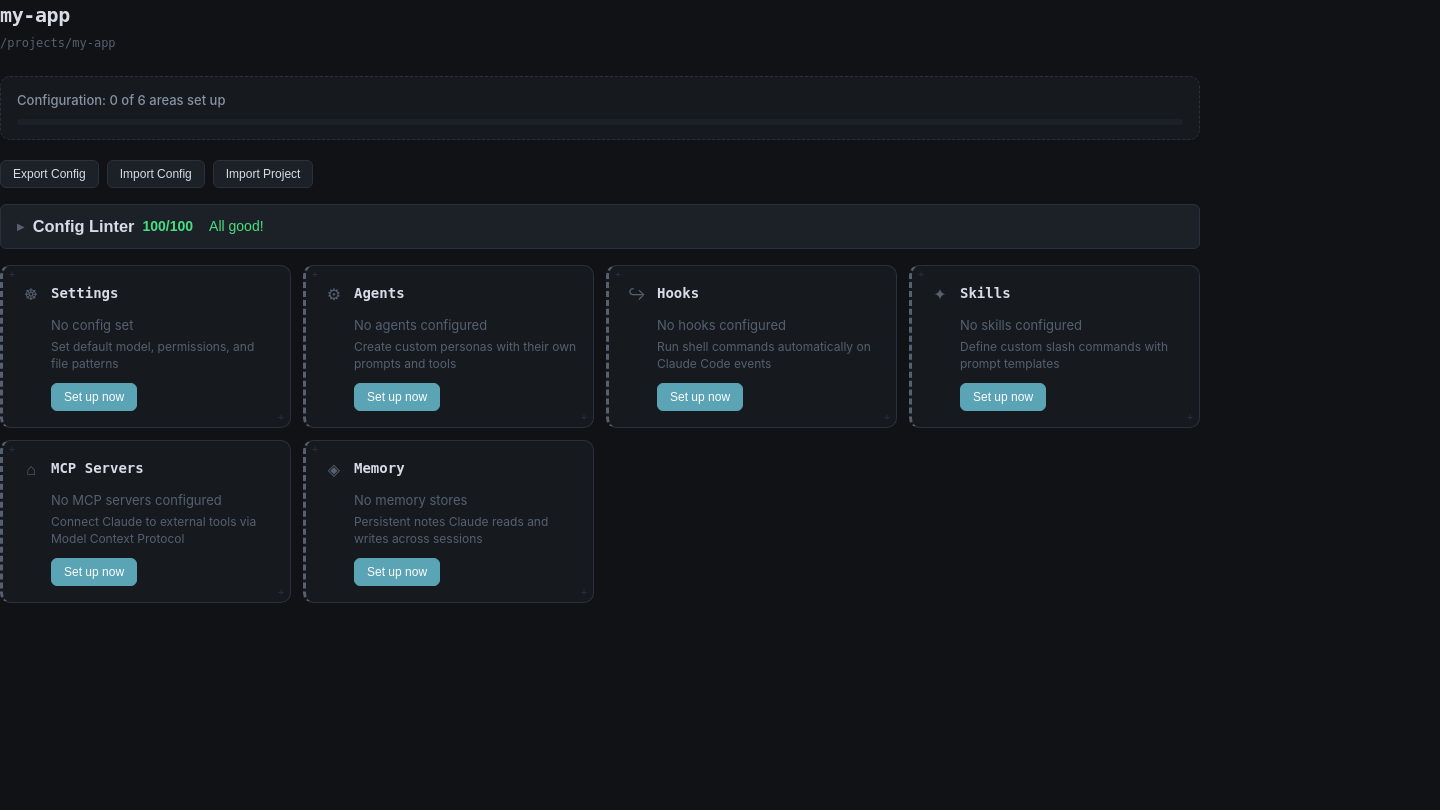
Scenario: OverviewPage › opens import modal when Import Config is clicked
Click the button "Import Config": (156, 174) [107,160,205,188]
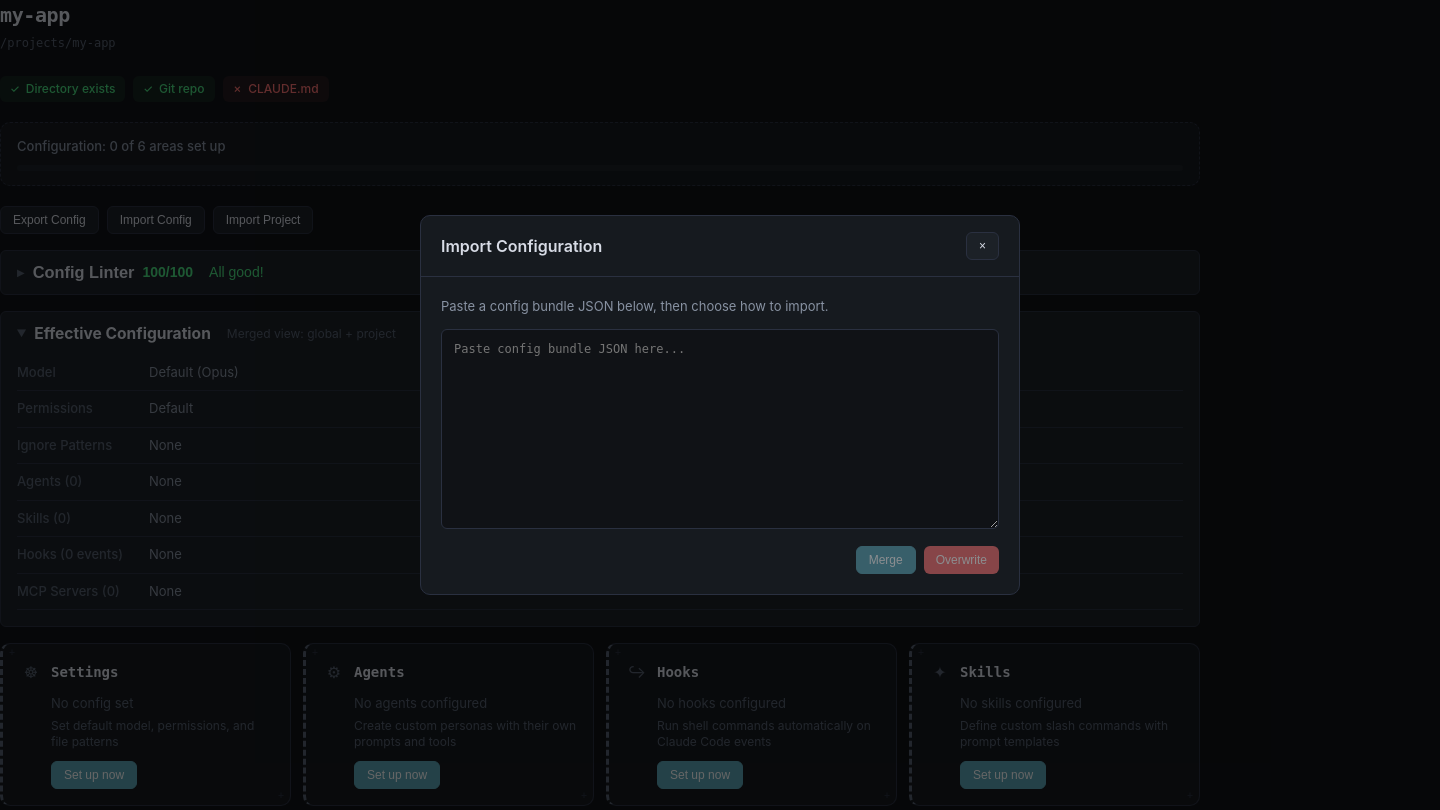
Check: the heading "Import Configuration" is shown, box [441,234,602,258]
Check: the text box with test id "import-textarea" is shown, box [441,329,999,529]
Check: the button "Merge" is shown, box [856,546,916,574]
